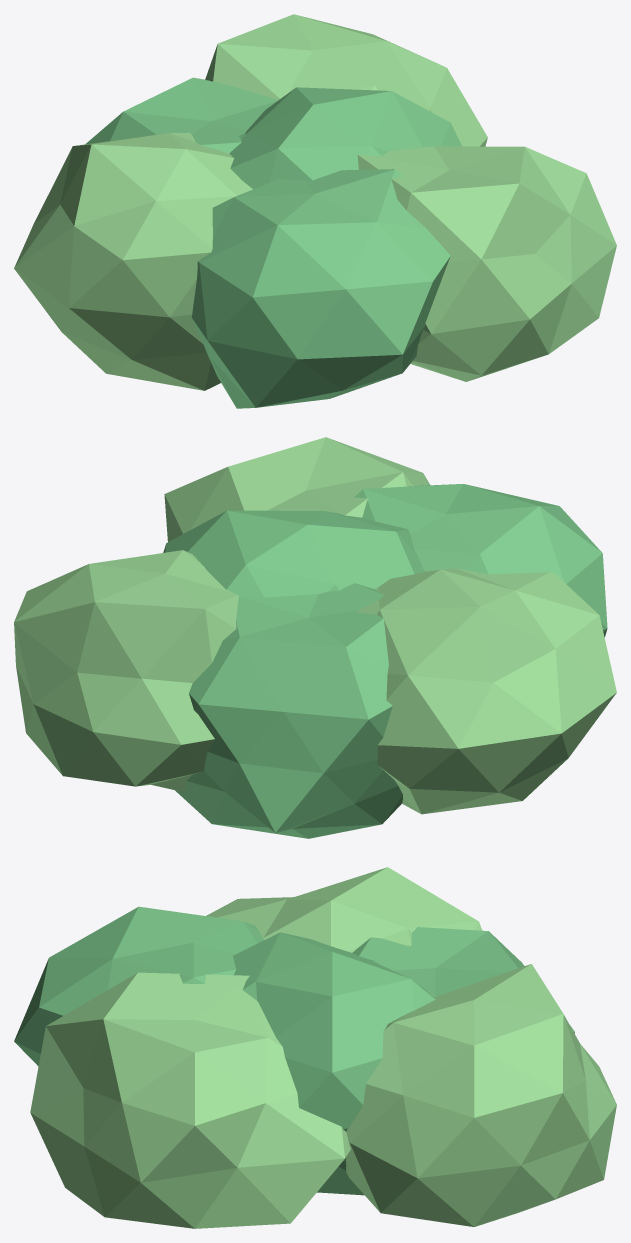
File: bush.glb
The picture shows the model from 3 angles, top to bottom: view 1: azimuth 30°, elevation 25°; view 2: azimuth 150°, elevation 25°; view 3: azimuth 270°, elevation 25°; orthographic projection. The views are drawn at different scales.
Visible parts, largest first — view 1: Bush; view 2: Bush; view 3: Bush.
Boxes of the visible parts, x1=… form: Bush: x1=14, y1=14, x2=616, y2=408; Bush: x1=14, y1=437, x2=616, y2=838; Bush: x1=14, y1=867, x2=616, y2=1228.
Size of the model in its own units: 2.92 by 1.46 by 3.05.
